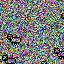sheep: (6, 33, 22, 45), (2, 55, 16, 64), (54, 48, 64, 59)
